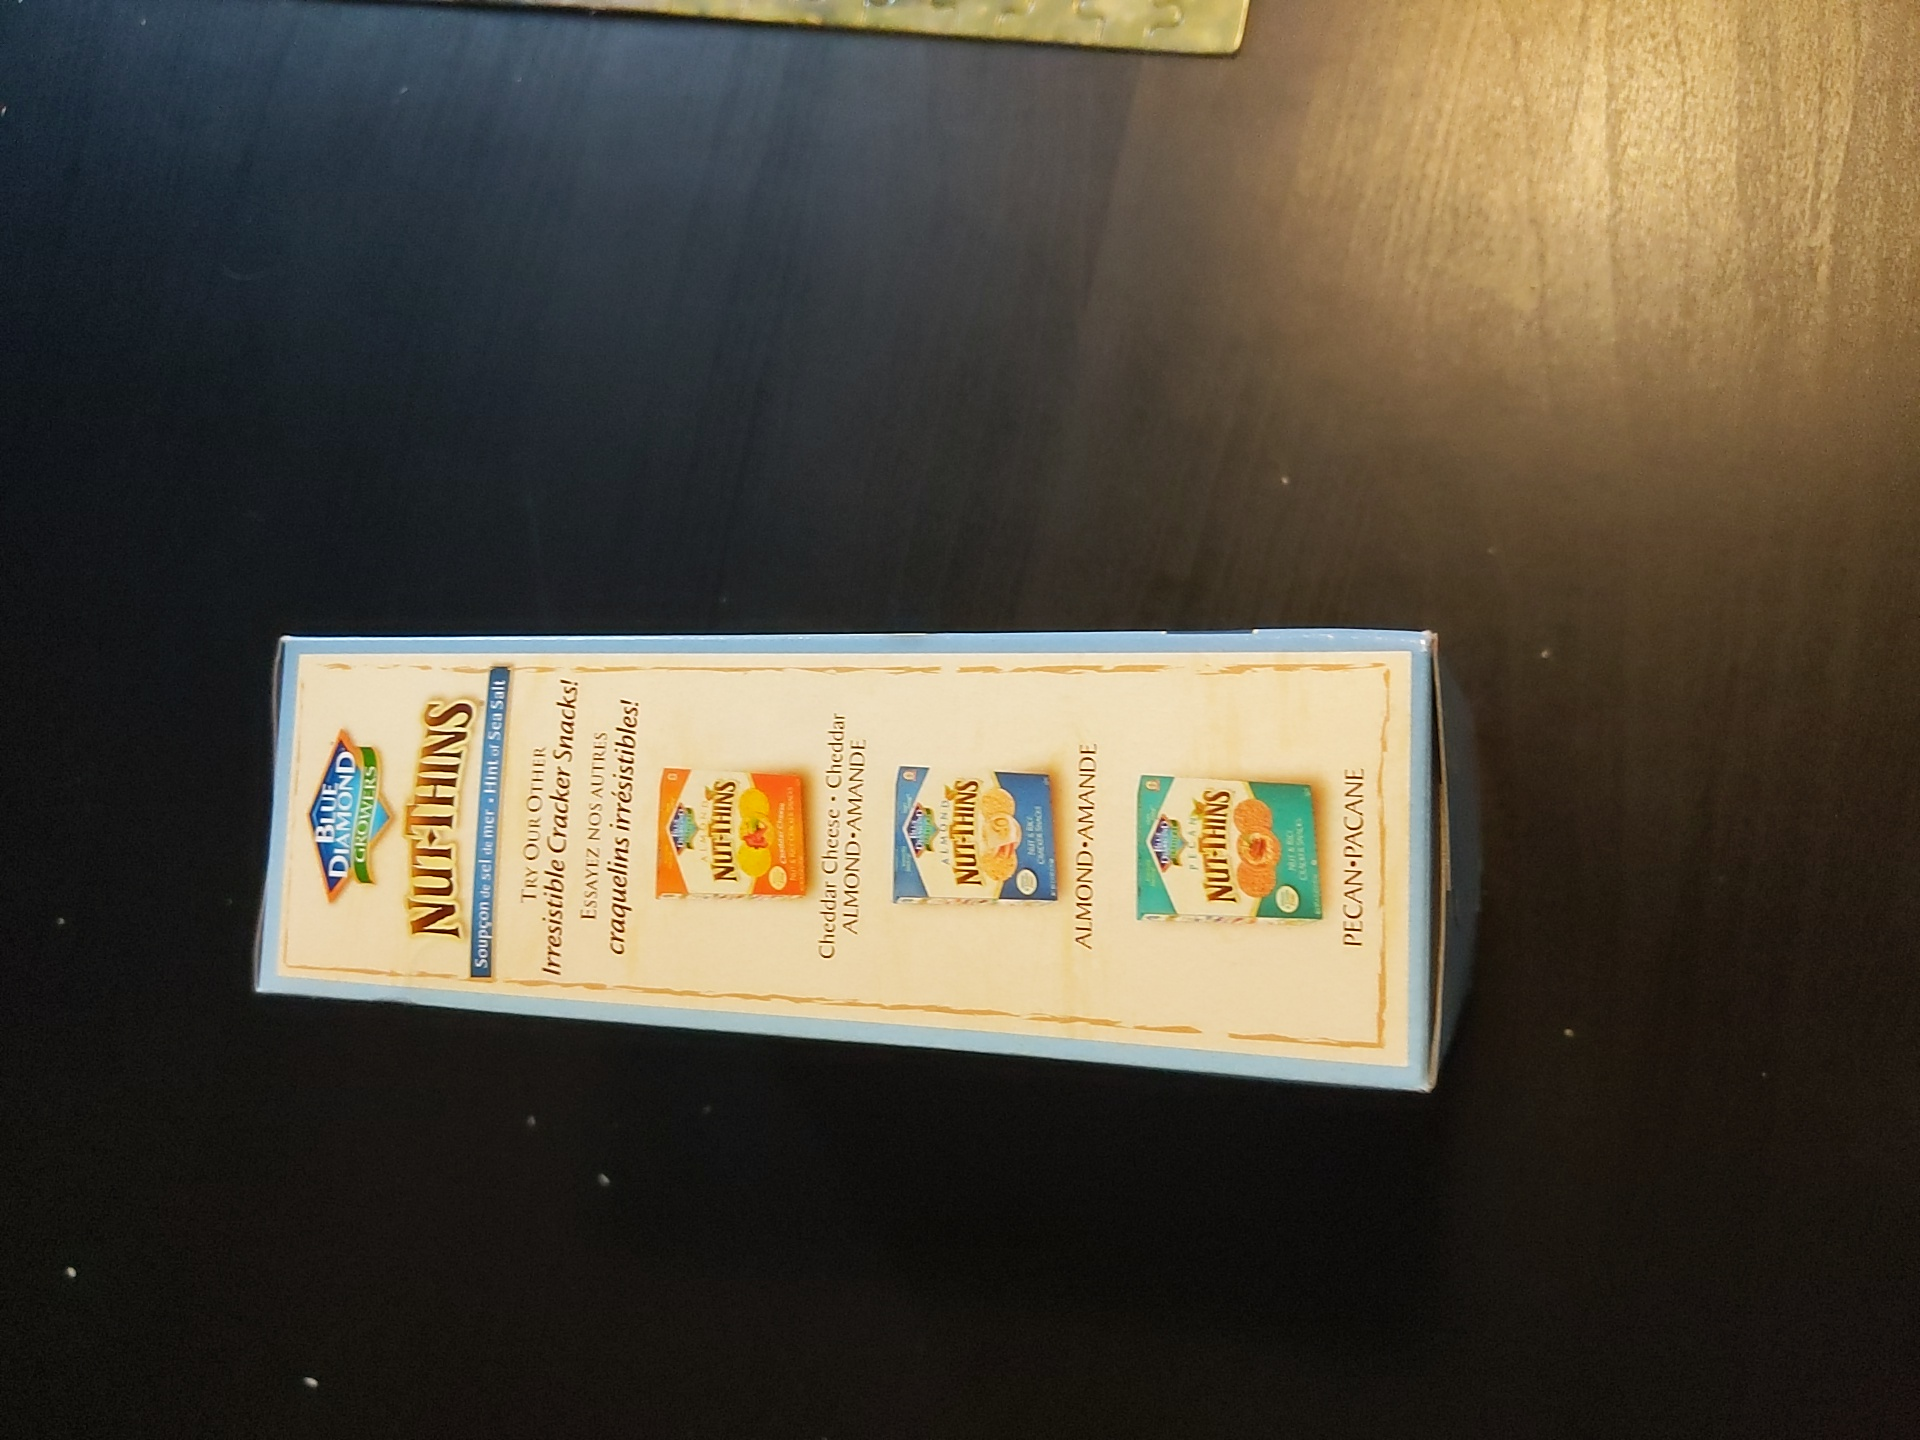blue_diamond_nut_thins_almond_seasalt: (278, 631, 1485, 1094)
